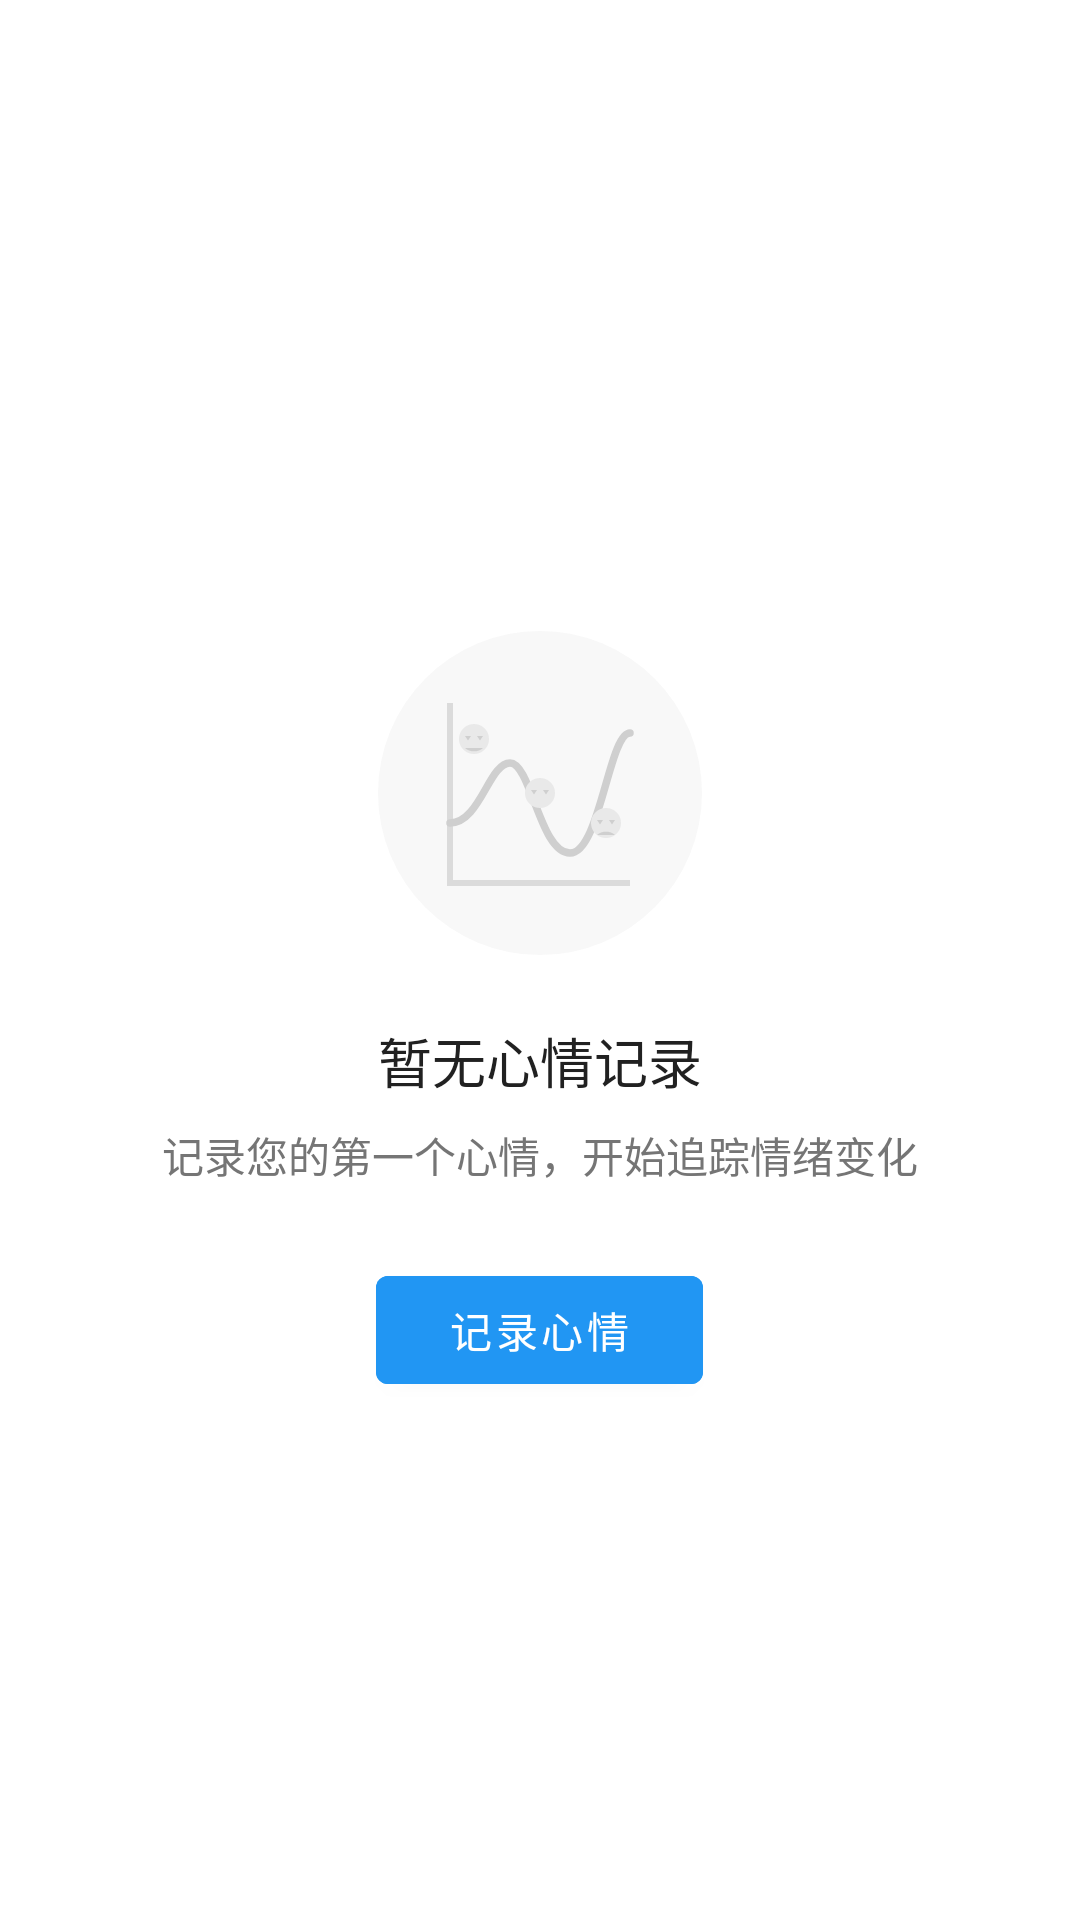

Screen size 1080x1920. Icon name, then its box in pixels as (x1, y1, x2, y2):
empty chart: (446, 703, 634, 886)
